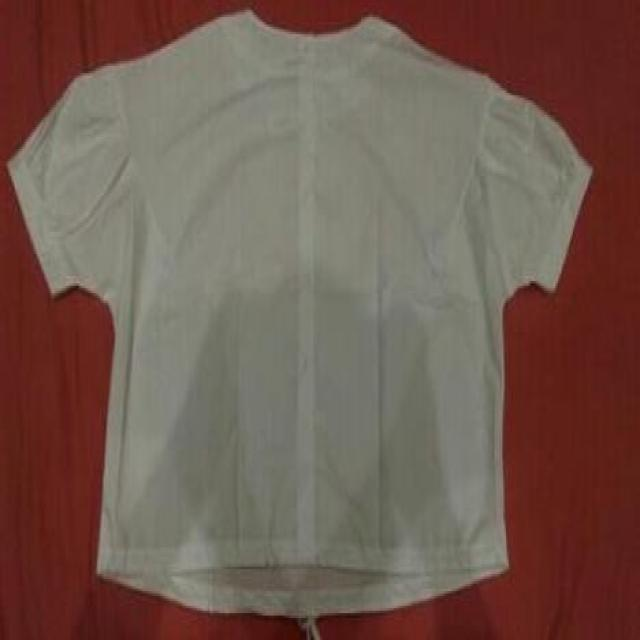short-sleeve-top: (12, 10, 596, 605)
